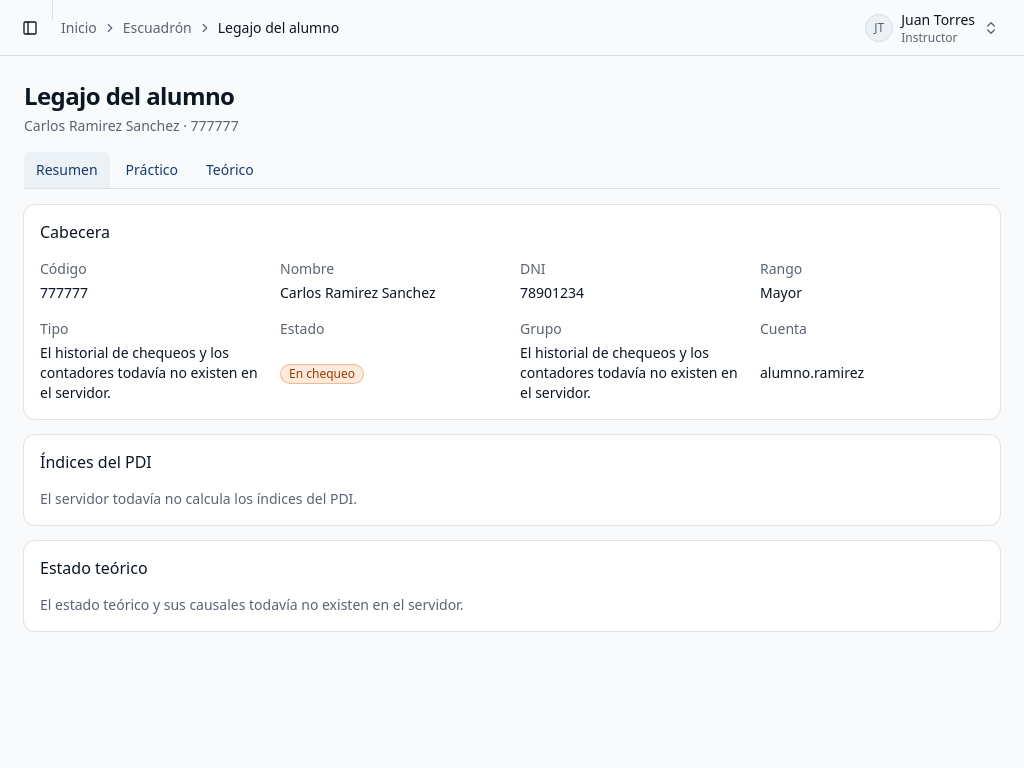
Scenario: Legajo: propiedad y modo vivo › CA-LEG-17 fuera del modo mock cada panel muestra su propio aviso y el encabezado S1
The image size is (1024, 768).
Check: the heading "Legajo del alumno" is shown, box [24,80,239,112]
Check: the text "El servidor todavía no calcula los índices del PDI." is shown, box [40,489,357,508]
What coordinates should you click on to do the following:
click the link "Práctico"
I would click on:
 (152, 170)
Its box is [126,160,178,179].
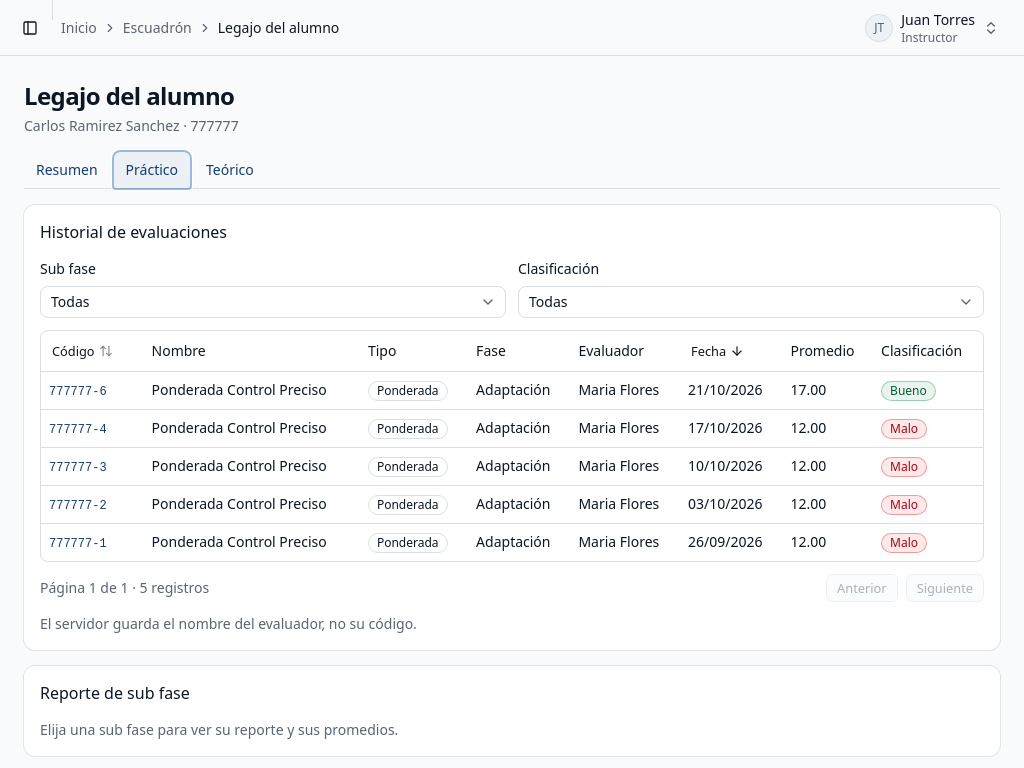
What coordinates should you click on to do the following:
click the link "Teórico"
I would click on:
 (230, 170)
Its box is [206,160,254,179].
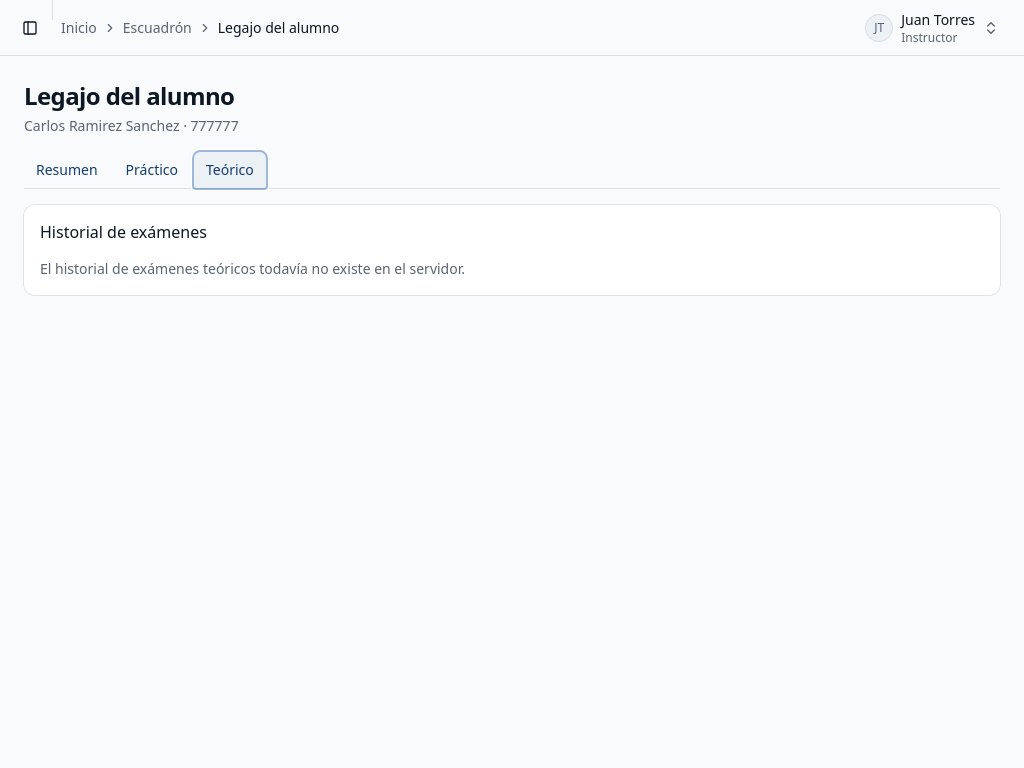
Check: the text "El historial de exámenes teóricos todavía no existe en el servidor." is shown, box [40,259,465,278]
